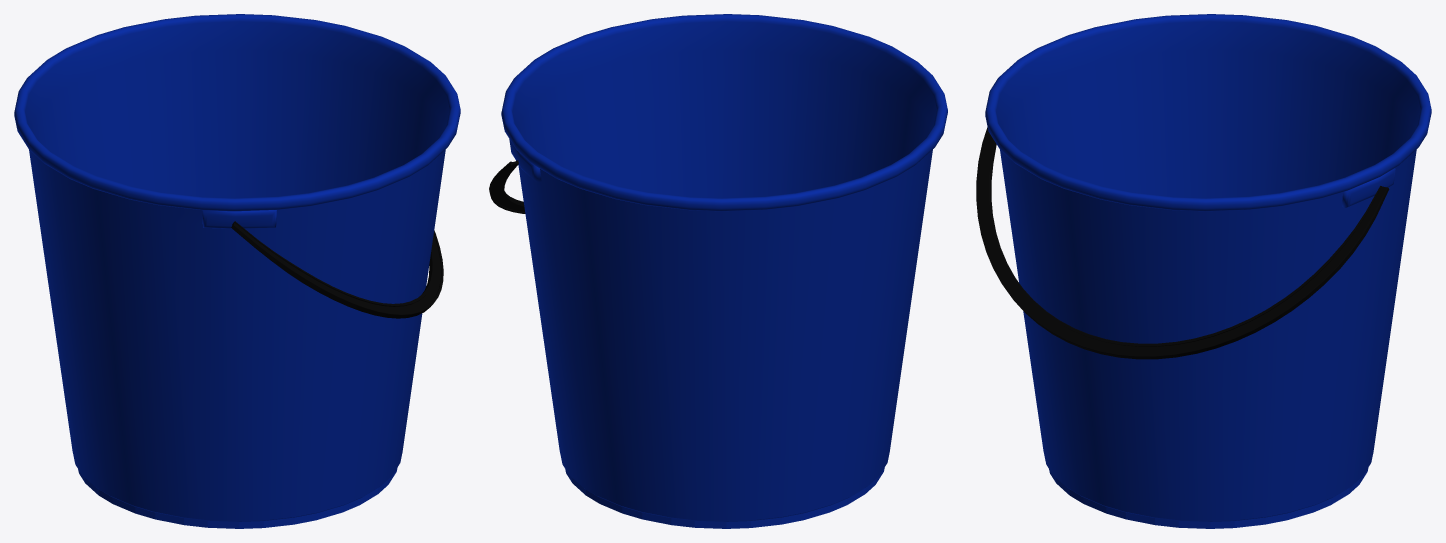
Rendered from pail.FBX.
3 views of the same model, side by side, from view 1: azimuth 30°, elevation 25°; view 2: azimuth 150°, elevation 25°; view 3: azimuth 270°, elevation 25° (orthographic).
Visible parts, largest first — view 1: pail; view 2: pail; view 3: pail.
Part boxes in pixels (x1,y1,x2,y2): pail: [14, 14, 460, 528]; pail: [489, 14, 947, 528]; pail: [976, 14, 1431, 528].
Bounding box in the file's own units: 228 × 233 × 199.
